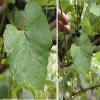grape leaf black rot: (3, 1, 52, 93), (69, 31, 93, 76)
